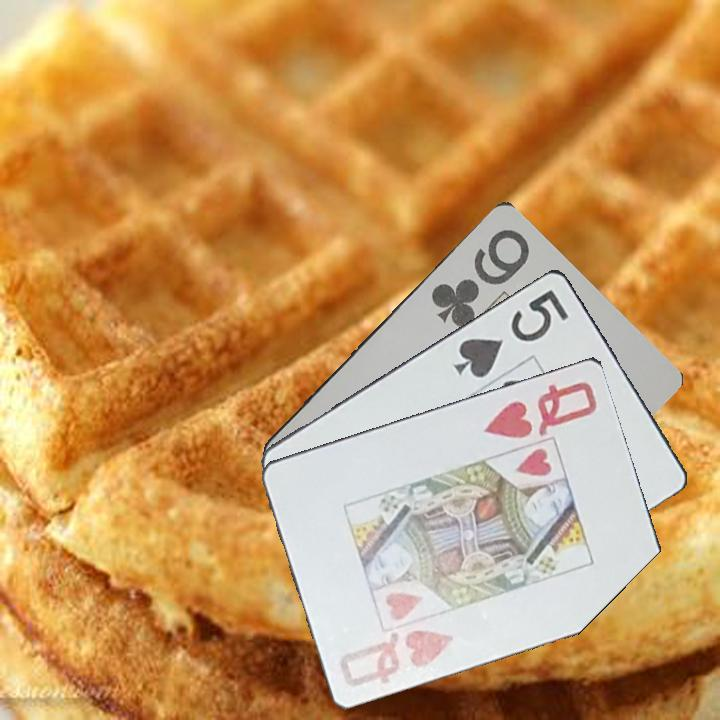5s: (450, 285, 572, 381)
9c: (427, 225, 533, 330)
Qh: (480, 372, 603, 441), (336, 624, 457, 690)
